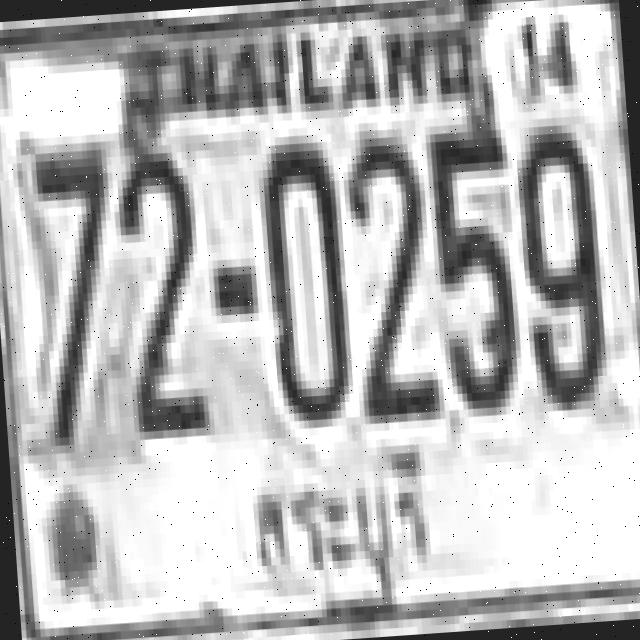0: (256, 133, 350, 422)
2: (112, 143, 208, 432), (340, 127, 435, 416)
5: (424, 114, 520, 410)
7: (25, 137, 121, 442)
9: (509, 116, 604, 404)
SaraBuri: (235, 453, 442, 608)
